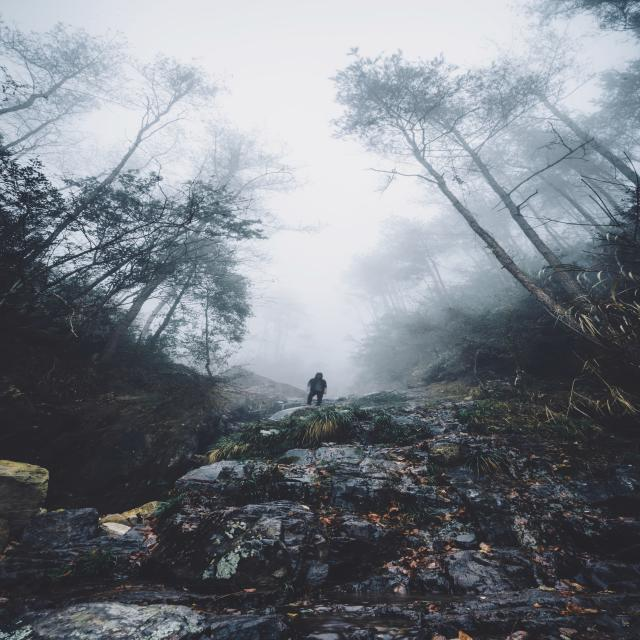adult: (306, 373, 327, 406)
